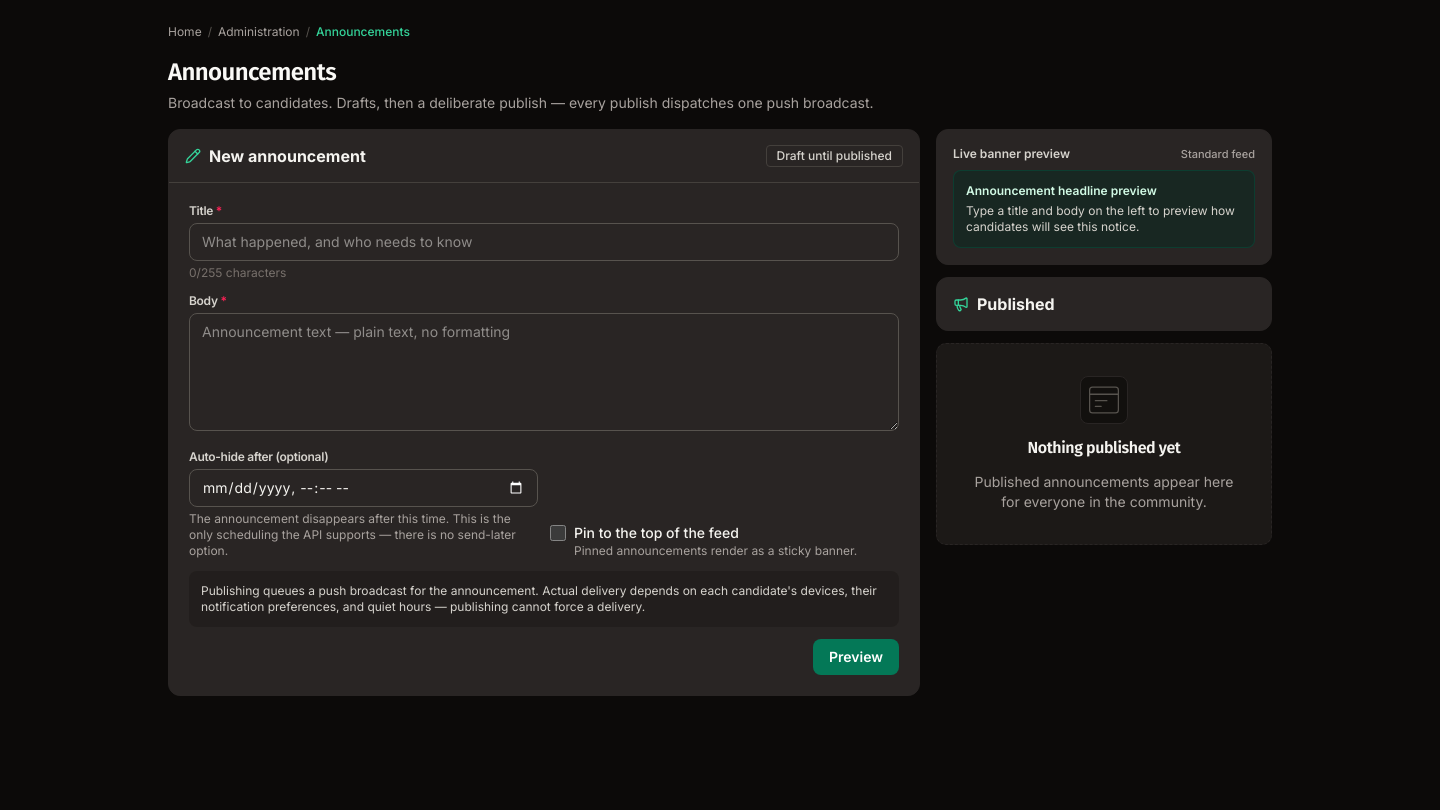
Test: AdminAnnouncementsPage (9.5 Task 9) › publishes only after the confirm dialog, via PATCH is_published
The width and height of the screenshot is (1440, 810).
In the field with test id "ann-title": (544, 242) [189,223,899,261], type "Scheduled maintenance"
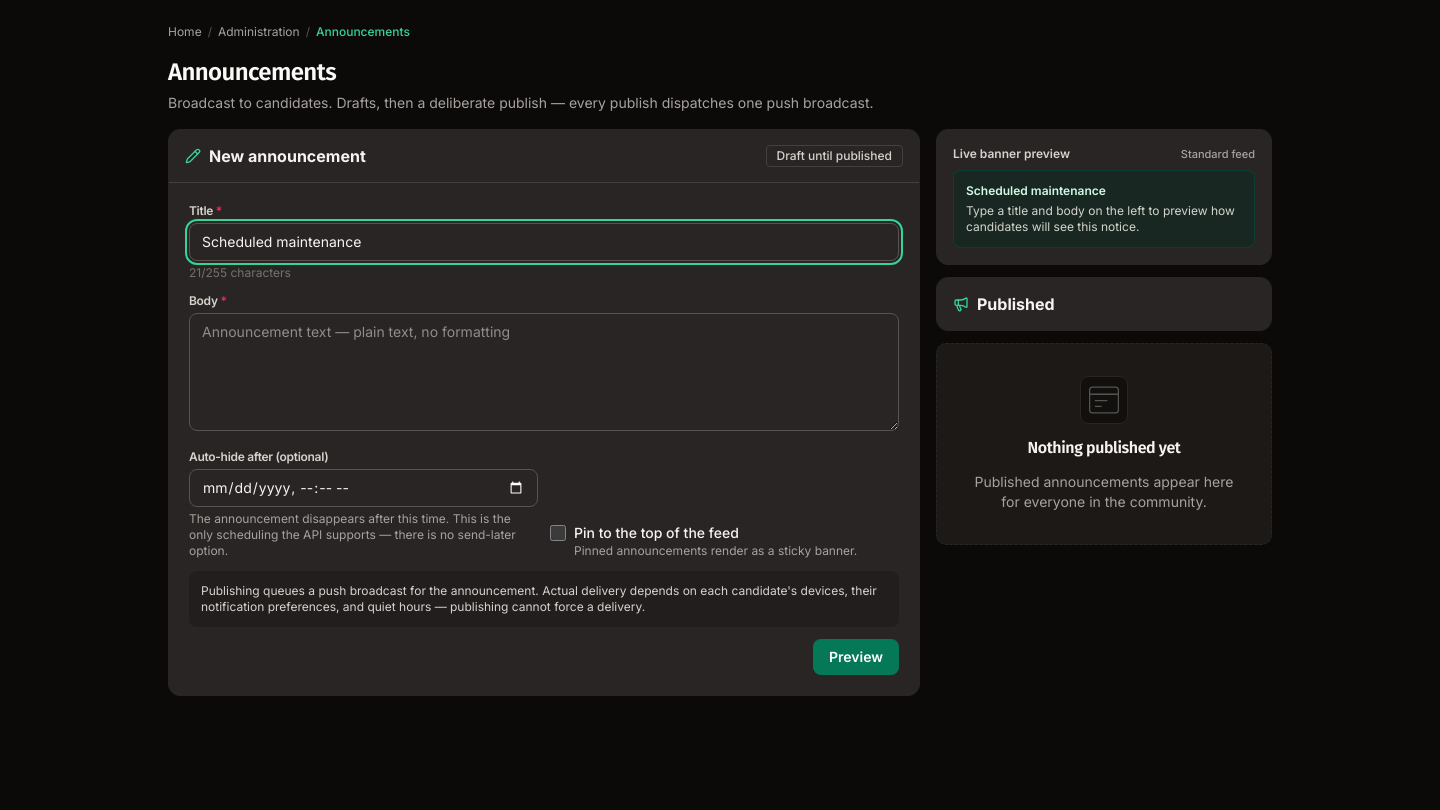
In the text box with test id "ann-body": (544, 372) [189,313,899,431], type "The app will be unavailable on Sunday morning."
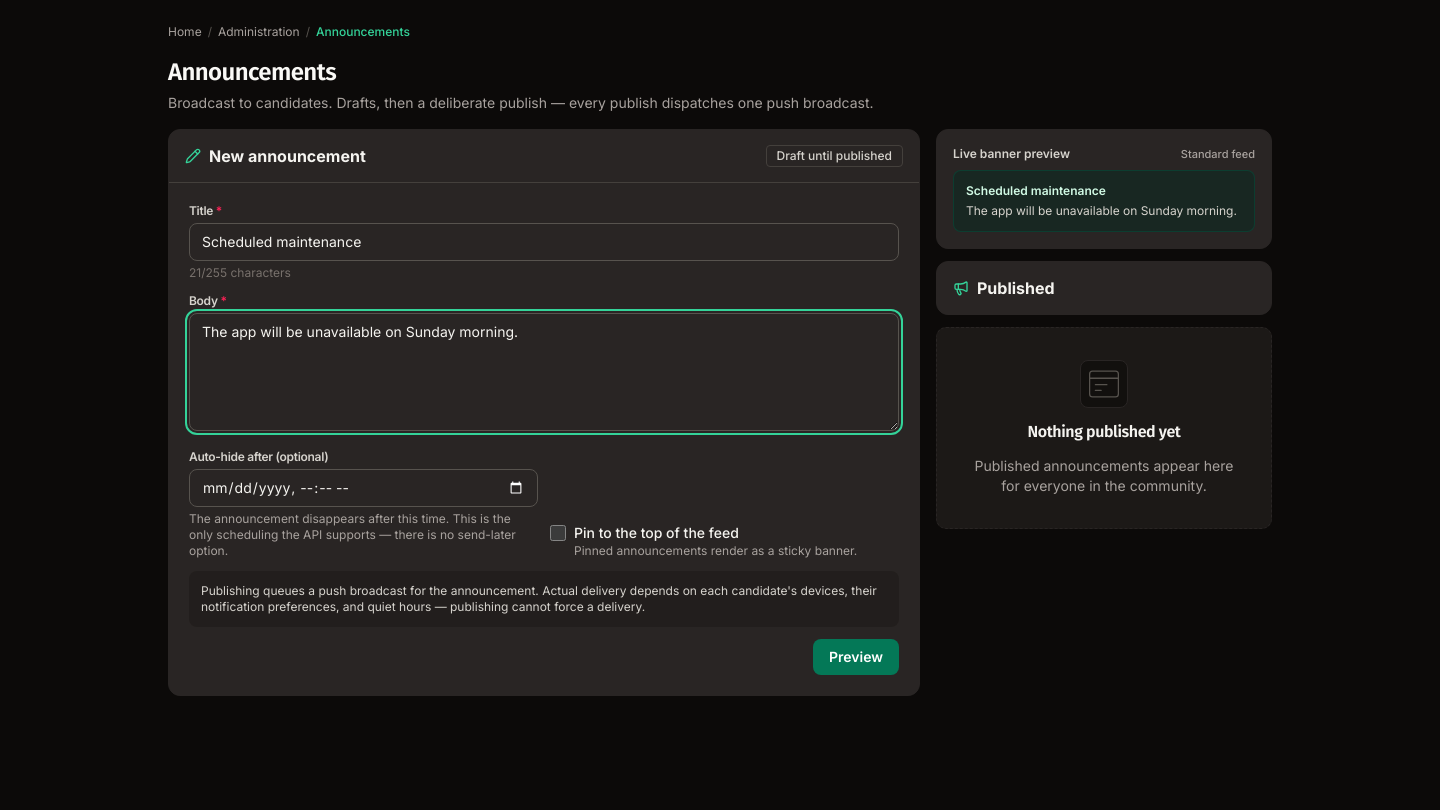
Click the button with test id "ann-preview": (856, 657) [813,639,899,675]
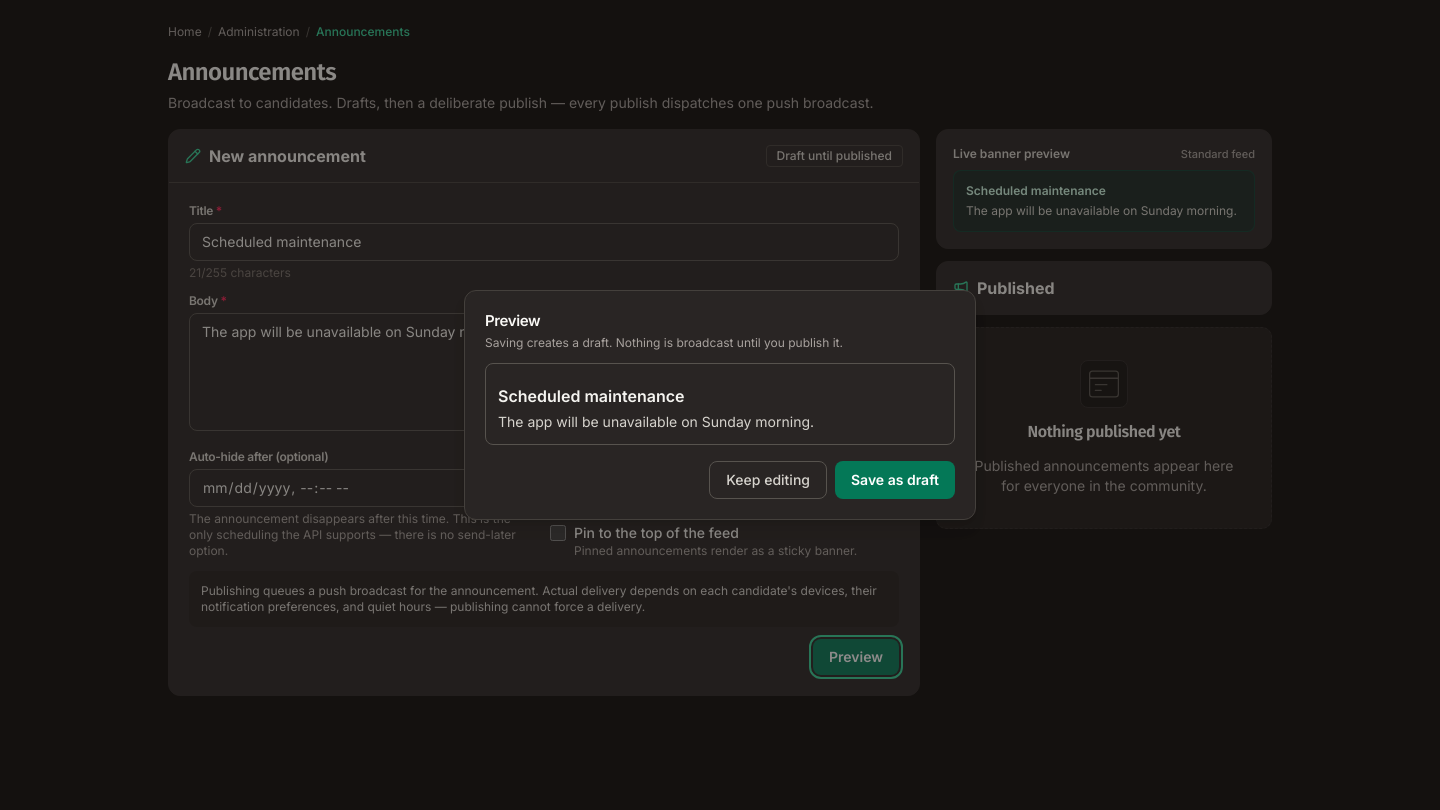
Click the button with test id "preview-save": (895, 480) [835,461,955,499]
(page scrolled)
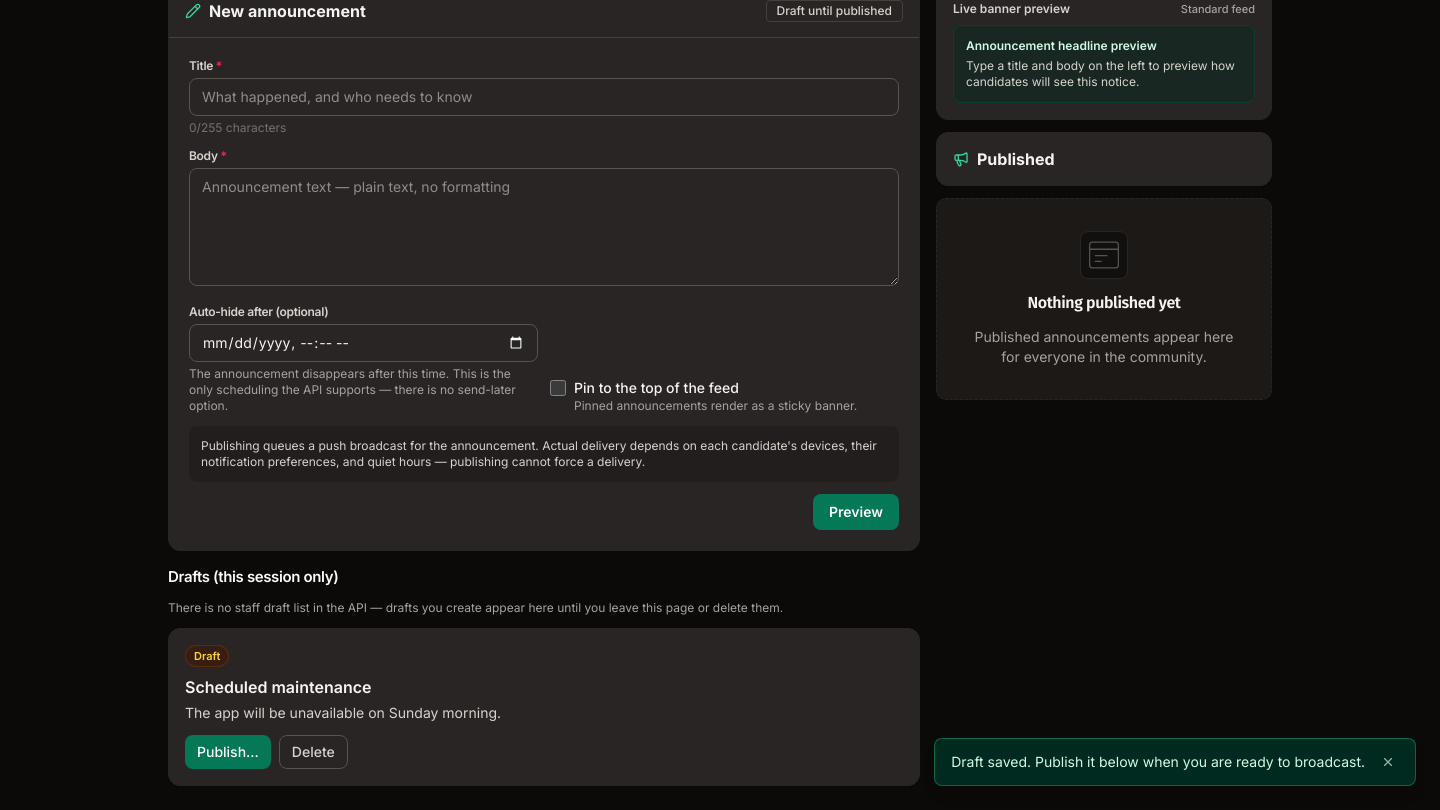
Expected: the element with test id "draft-row" is shown, [168,628,920,786]
Confirm gate first — no PATCH before it.
Click the button "Publish…": (228, 752) [185,735,271,769]
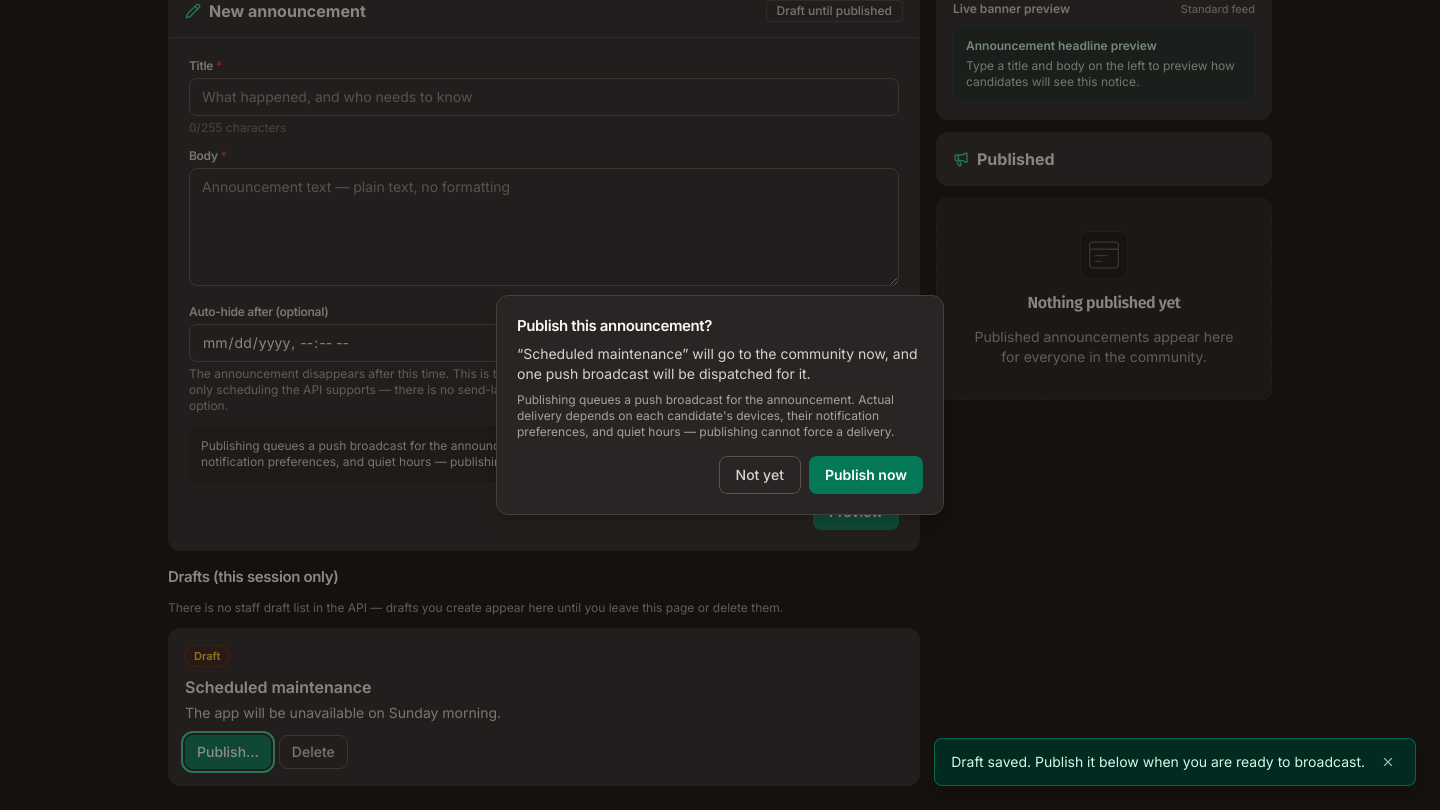
Expected: the dialog with test id "publish-dialog" is shown
Expected: the text "one push broadcast will be dispatched" is shown, [517,345,918,382]
Click the button with test id "publish-confirm": (866, 475) [809,456,923,494]
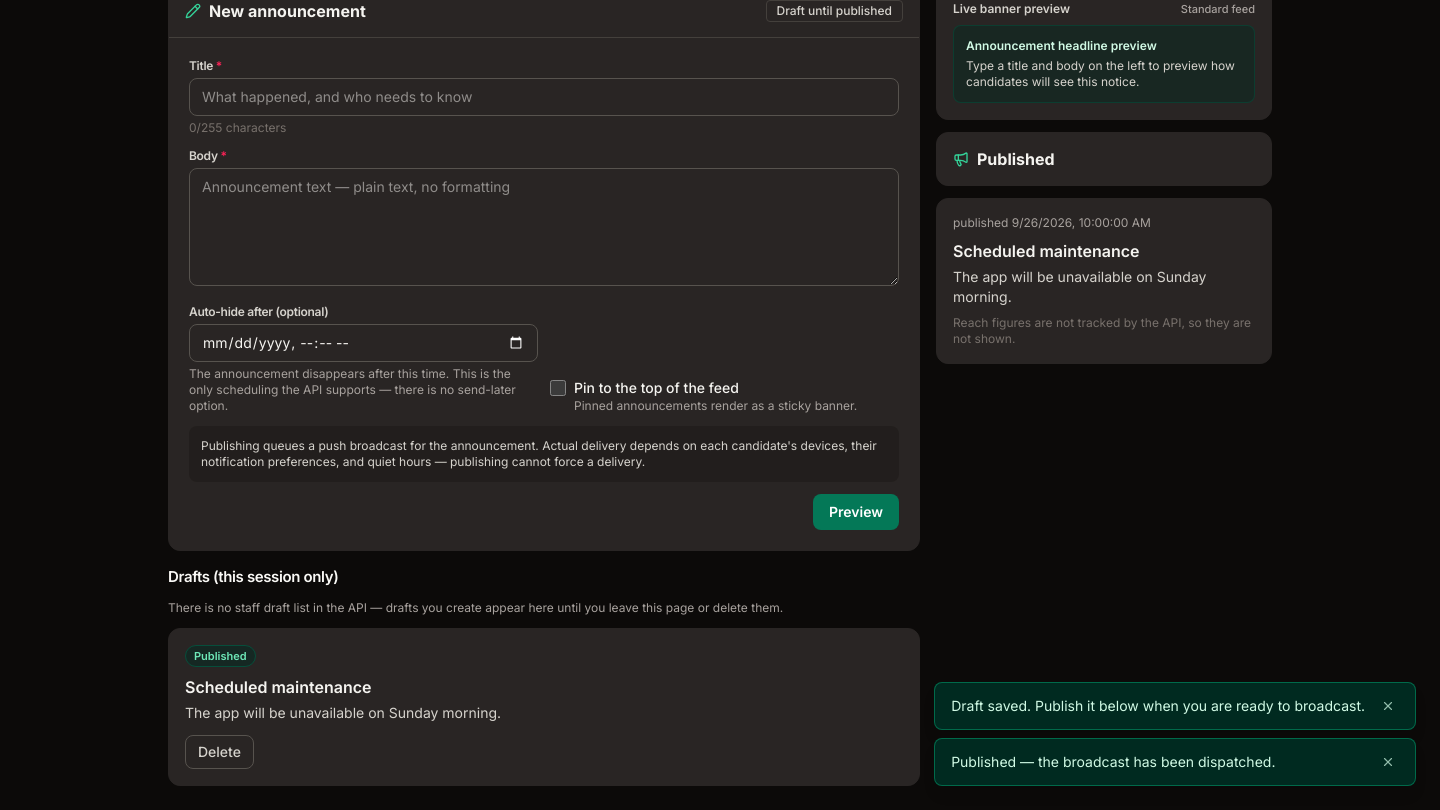
Expected: the element with test id "draft-row" shows "Published", [194,649,247,663]
